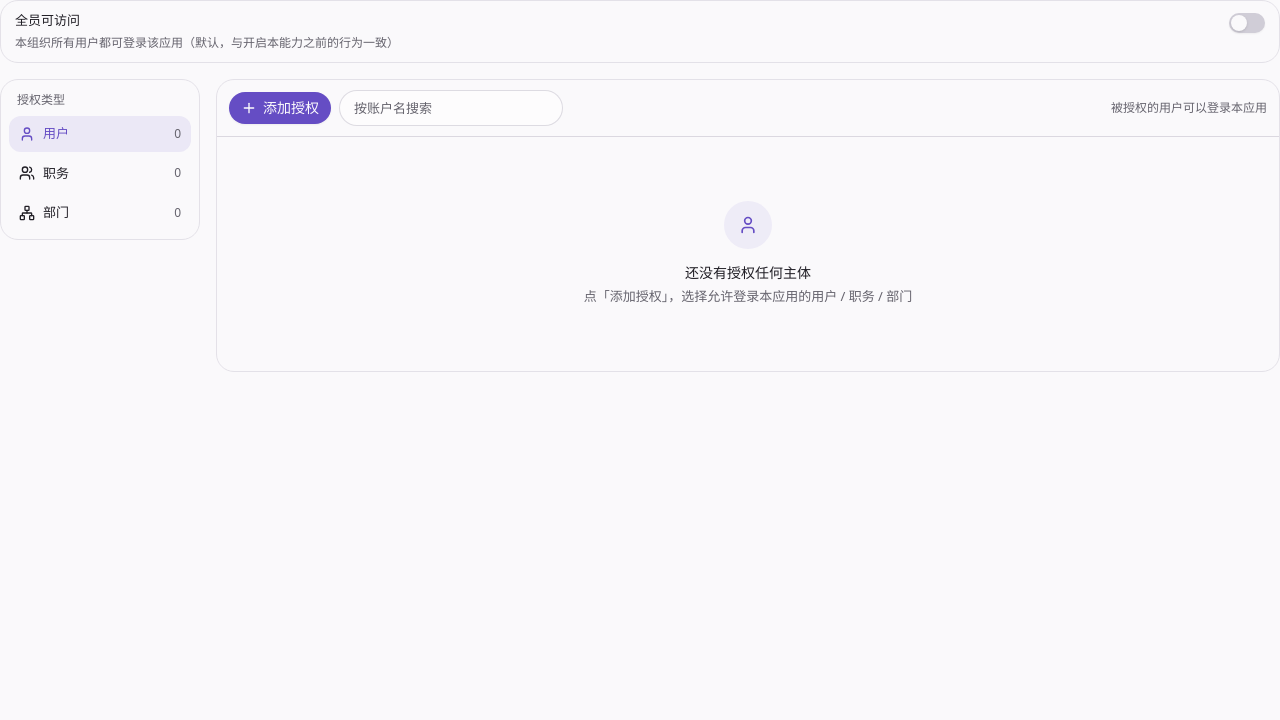
Test: ApplicationAccessEditor（授权类型 / 名单 左右布局） › 扁平候选是服务端分页：每页 10 条，翻页才取下一页
Click the button "添加授权" at coordinates (280, 108), box [229,92,331,124]
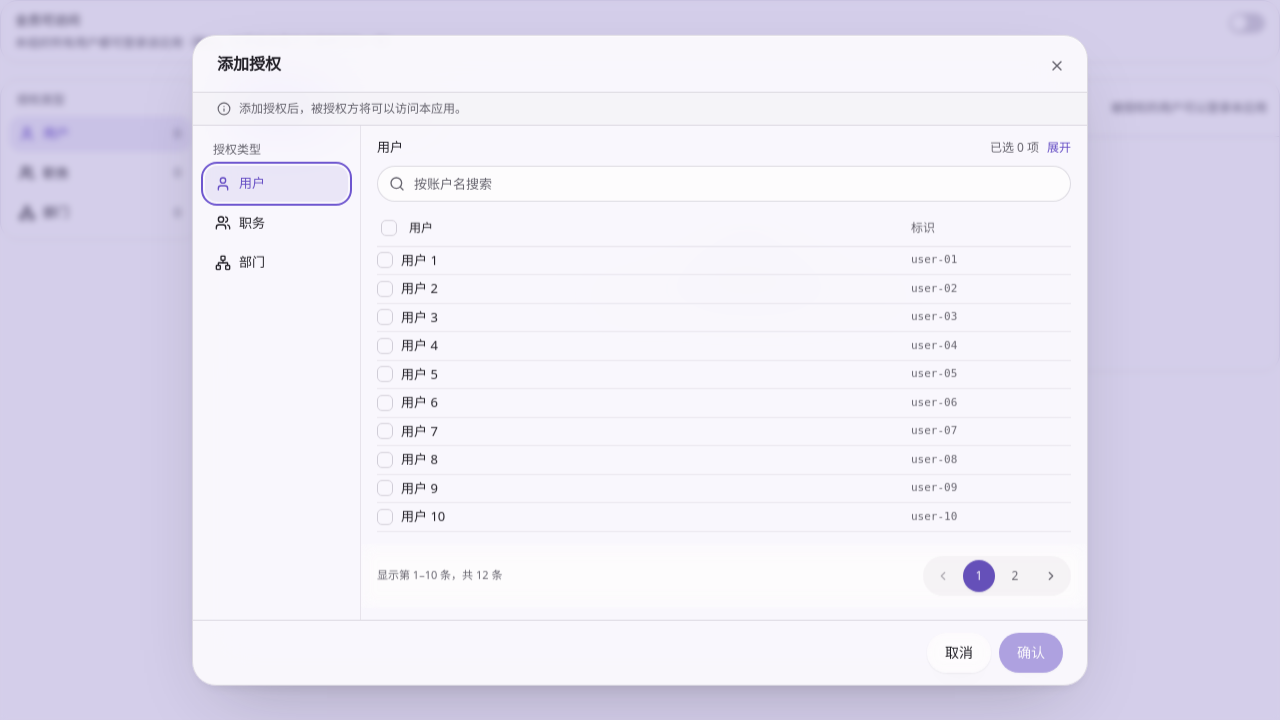
Check: the text "用户 11" is not shown
Check: the text "用户 1" is shown, box [401,250,438,268]
Check: the text "用户 10" is shown, box [401,507,445,525]
Click the button named "下一页" at coordinates (1051, 575), box [1035,559,1067,591]
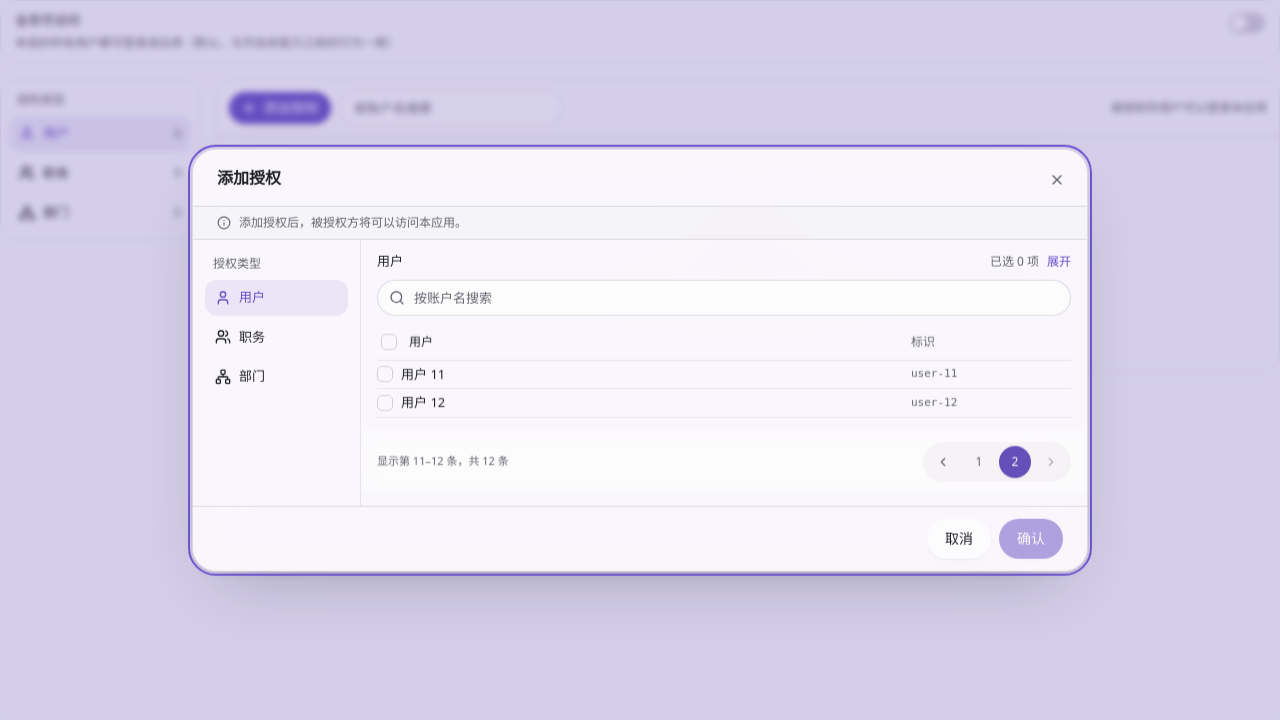
Check: the text "用户 11" is shown, box [401,364,445,382]
